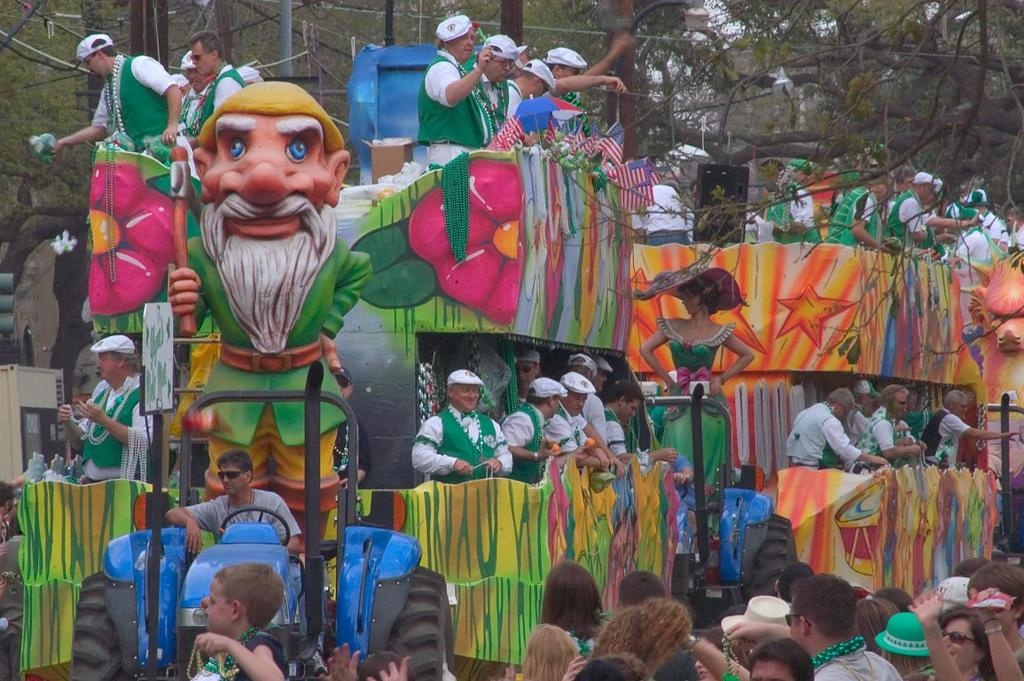human_face: (199, 576, 239, 632), (940, 618, 974, 666), (970, 590, 1010, 630), (450, 380, 478, 410), (218, 463, 244, 494), (450, 27, 474, 60), (788, 602, 806, 646), (488, 50, 512, 80), (326, 372, 350, 402), (191, 44, 213, 74), (96, 346, 116, 376), (564, 388, 586, 415), (556, 63, 578, 90), (590, 362, 610, 391), (514, 358, 536, 384), (618, 393, 640, 419), (184, 62, 206, 88), (82, 48, 100, 76), (680, 288, 698, 314), (892, 390, 906, 418), (548, 391, 560, 416), (1006, 215, 1020, 233), (871, 184, 885, 202), (954, 396, 966, 416), (902, 175, 916, 191), (836, 403, 850, 417), (960, 214, 974, 228), (920, 183, 932, 197), (795, 170, 807, 183), (861, 393, 871, 407), (908, 397, 916, 409)
